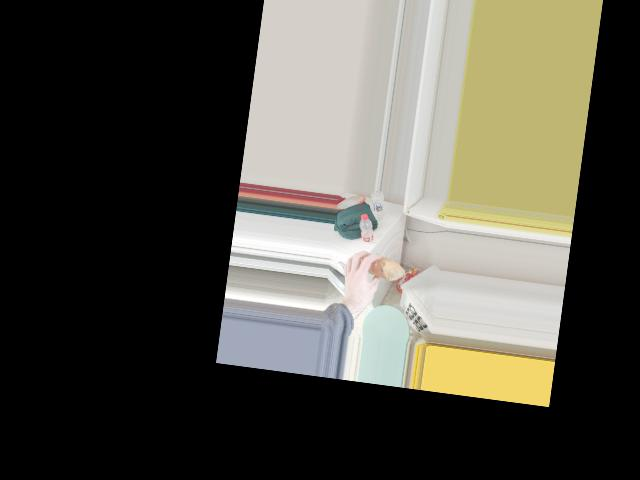sweet_potato: (363, 257, 397, 276)
